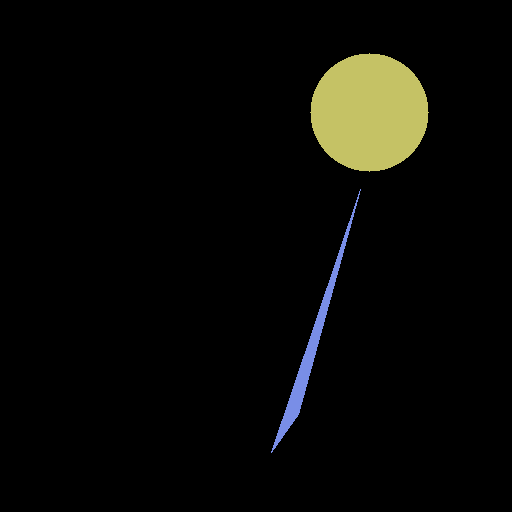circle: (310, 53, 428, 171)
triangle: (271, 189, 360, 452)
